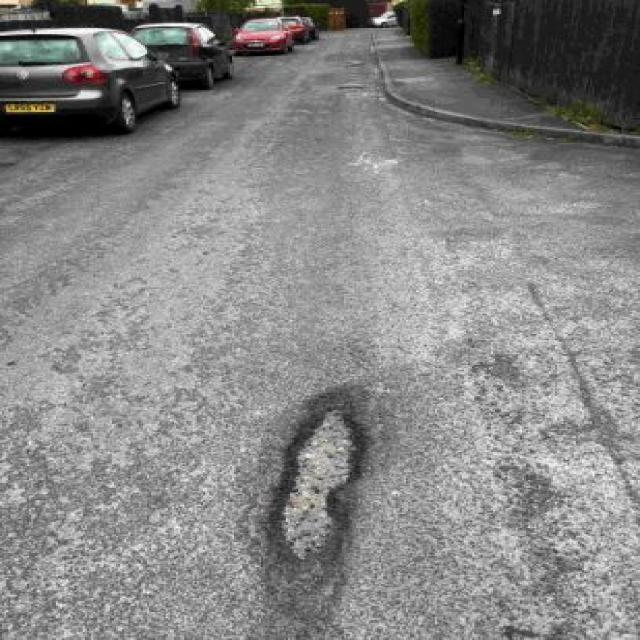pothole: (248, 385, 372, 581)
